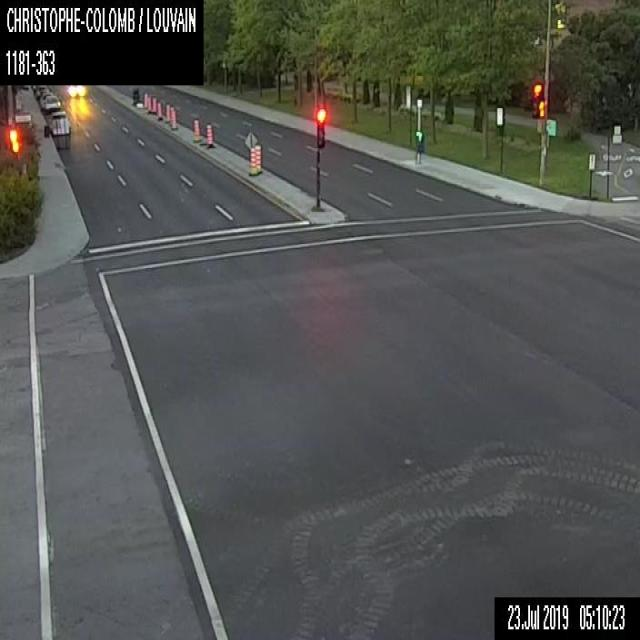construction: (59, 118, 70, 148), (52, 118, 61, 148), (248, 147, 257, 175), (254, 143, 262, 172), (244, 130, 256, 148), (192, 118, 201, 141), (170, 109, 178, 129), (205, 123, 212, 145), (163, 103, 170, 121), (156, 102, 163, 120), (151, 96, 156, 113), (169, 106, 173, 125), (147, 96, 151, 112), (144, 93, 148, 107)
vehicle: (49, 108, 71, 134), (43, 94, 60, 110), (39, 91, 53, 108), (68, 84, 85, 95), (35, 84, 48, 96)
